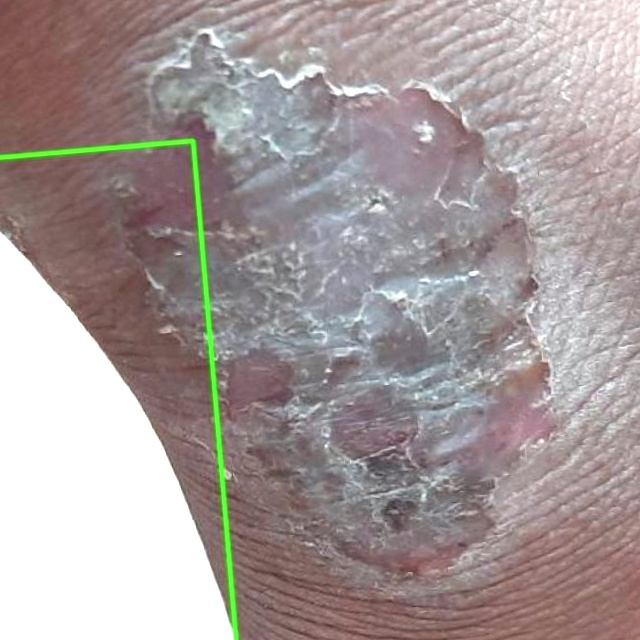Contact Dermatitis: (0, 140, 236, 639)
